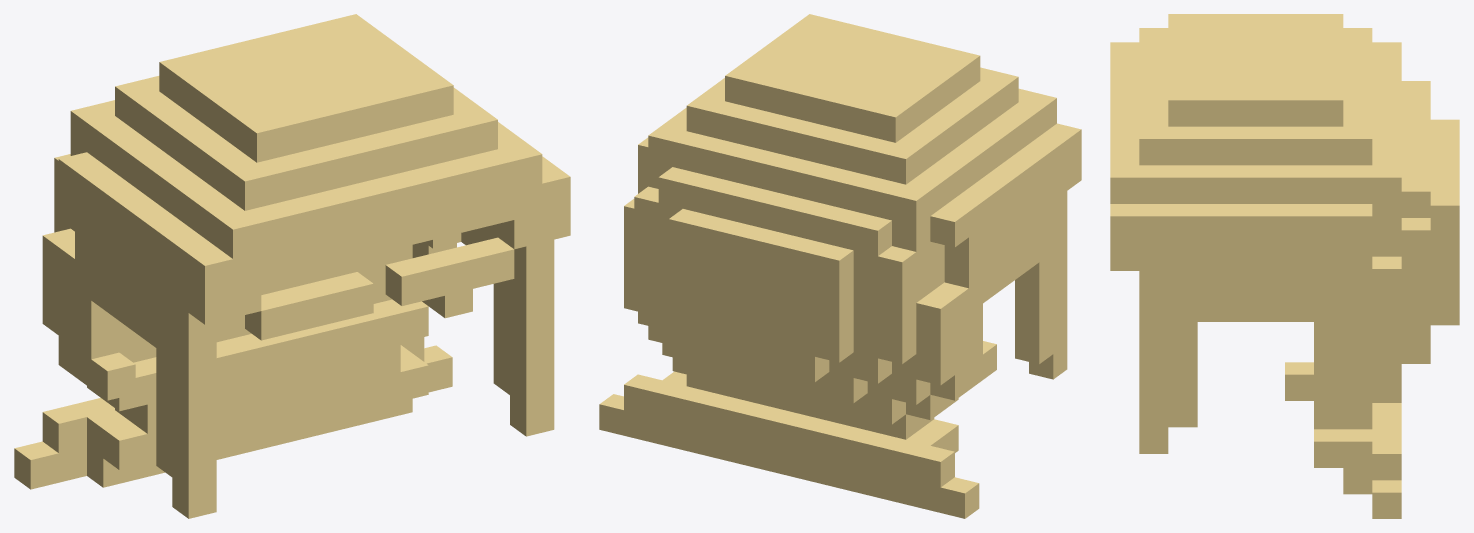
Rendered from Union_37.fbx.
3 renders of one model, left to right at view 1: azimuth 30°, elevation 25°; view 2: azimuth 150°, elevation 25°; view 3: azimuth 270°, elevation 25°, orthographic. The views are drawn at different scales.
Parts seen in each view (by area): view 1: Union_37; view 2: Union_37; view 3: Union_37.
Boxes of the visible parts, left/top/right/bottom form: Union_37: left=14, top=14, right=570, bottom=518; Union_37: left=599, top=14, right=1081, bottom=518; Union_37: left=1110, top=14, right=1459, bottom=518.
Bounding box in the file's own units: 15 × 14 × 12.
1 material, 1 textured.
